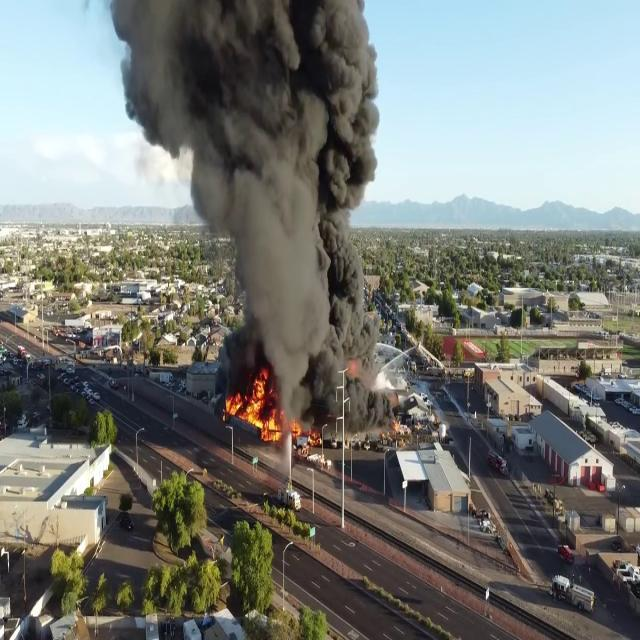Fire: (224, 363, 288, 442)
Smoke: (110, 1, 404, 408)
